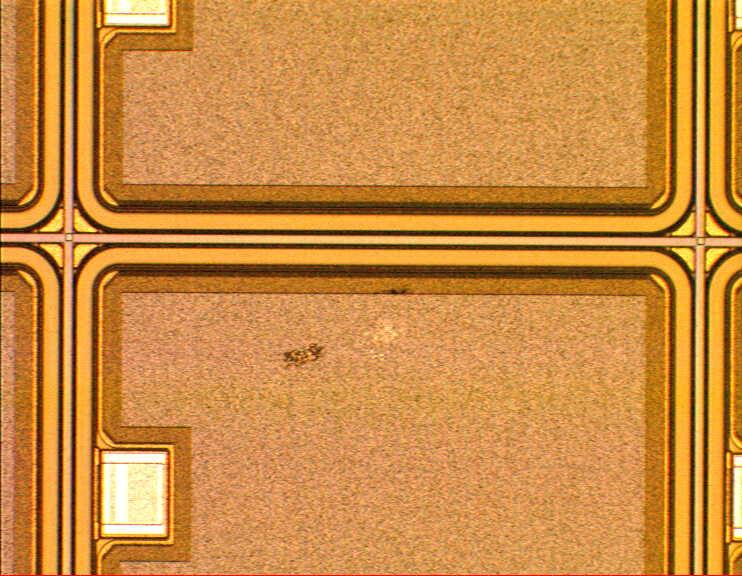SCRATCH: (277, 286, 435, 373)
